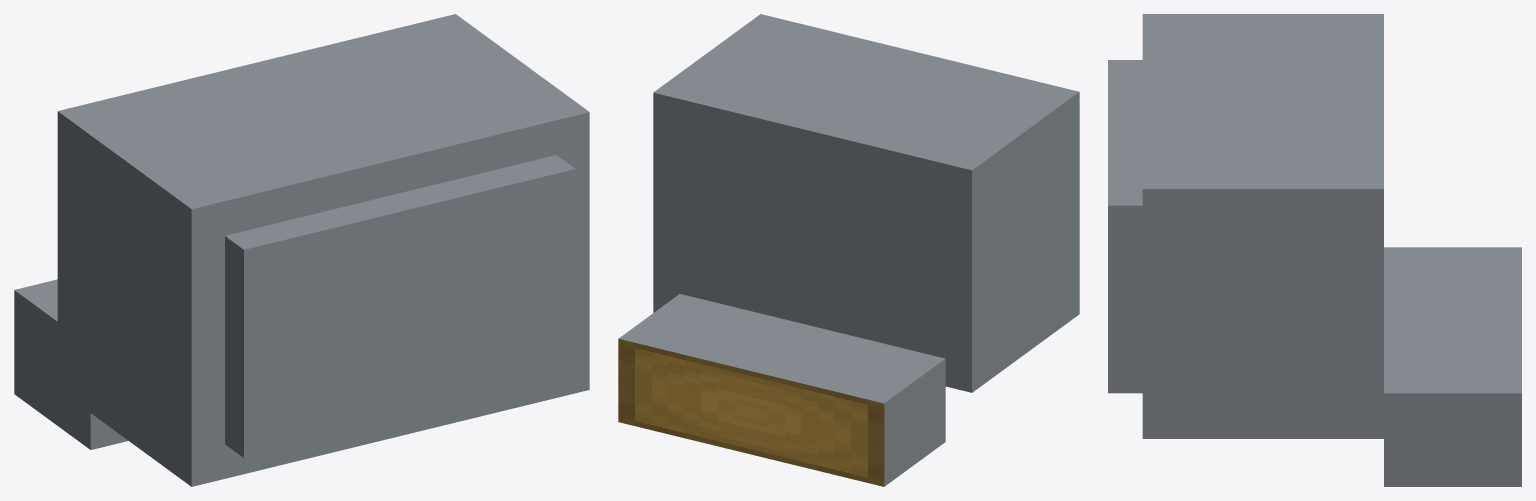
File: hps_wall_pack_item.obj
The picture shows the model from 3 angles, left to right: view 1: azimuth 30°, elevation 25°; view 2: azimuth 150°, elevation 25°; view 3: azimuth 270°, elevation 25°; orthographic projection. The views are drawn at different scales.
Visible parts, largest first — view 1: hps_wall_pack_item; view 2: hps_wall_pack_item; view 3: hps_wall_pack_item.
Part boxes in pixels (x1=…): hps_wall_pack_item: x1=14, y1=14, x2=589, y2=486; hps_wall_pack_item: x1=618, y1=14, x2=1079, y2=486; hps_wall_pack_item: x1=1108, y1=14, x2=1521, y2=486.
Size of the model in its own units: 0.75 by 0.625 by 0.75.
